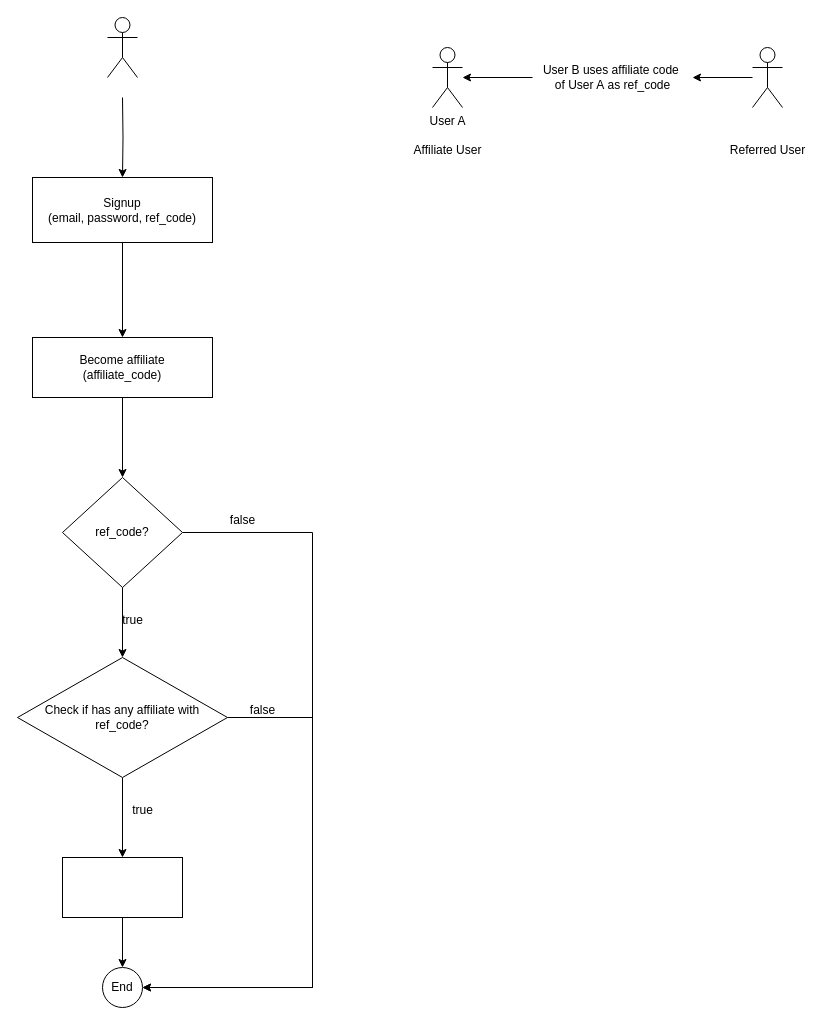
Some shapes in this 835 by 1025 pixel diagram are drawn without their labels. Each missing label, with the centre of its shape:
"Create a referral" belongs at (x=122, y=887).
"user" belongs at (x=122, y=47).
"User B" belongs at (x=767, y=77).
